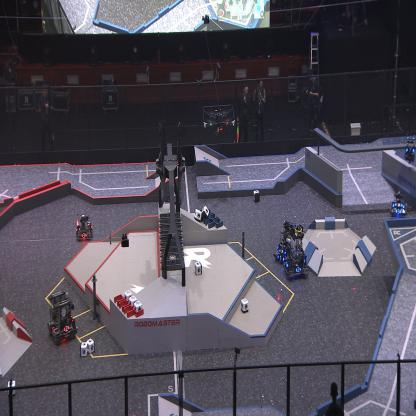car: (46, 291, 77, 343), (282, 226, 308, 280), (273, 219, 296, 265), (390, 190, 408, 218), (75, 213, 93, 239)
